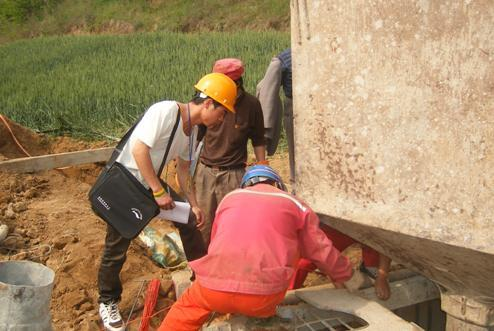helmet: (196, 74, 237, 117), (241, 166, 285, 191), (213, 59, 246, 79)
